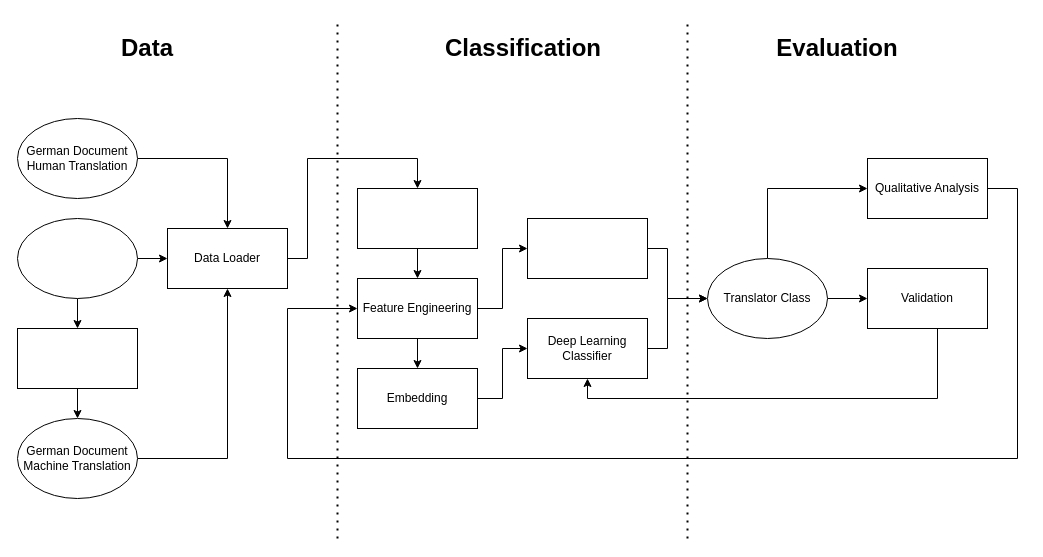
This 1043x557 diagram has some shape labels left out. The box of each missing label's shape, as (x1, y1, x2, y2) in pixels:
Baseline Classifier: (526, 218, 648, 278)
English Document: (16, 218, 138, 298)
Google Translate: (16, 328, 138, 388)
Preprocessing: (356, 188, 478, 248)
